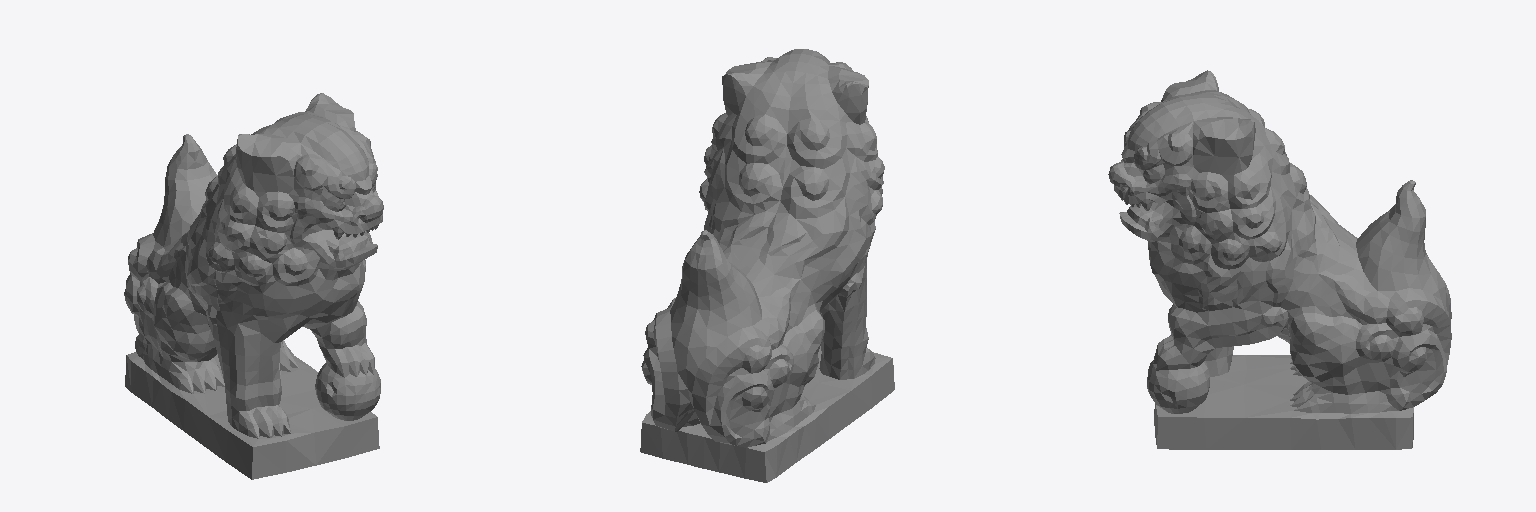
The model's file is Lio_big.obj.
The picture shows the model from 3 angles: view 1: azimuth 30°, elevation 25°; view 2: azimuth 150°, elevation 25°; view 3: azimuth 270°, elevation 25°; orthographic projection.
Parts seen in each view (by area): view 1: SM_LionBigA; view 2: SM_LionBigA; view 3: SM_LionBigA.
Part boxes in pixels (x1,y1,x2,y2): SM_LionBigA: (124, 93, 383, 479); SM_LionBigA: (640, 49, 894, 482); SM_LionBigA: (1108, 70, 1451, 449).
Bounding box in the file's own units: 197 × 389 × 371.